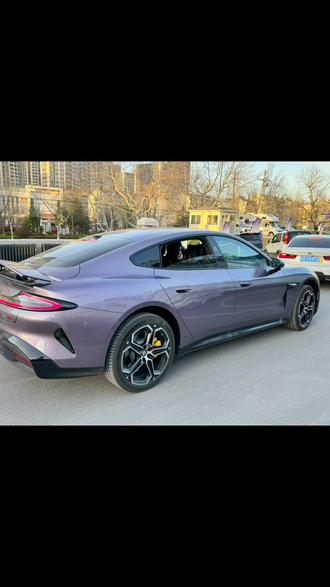other: (281, 234, 329, 283)
su7: (0, 232, 325, 396)
